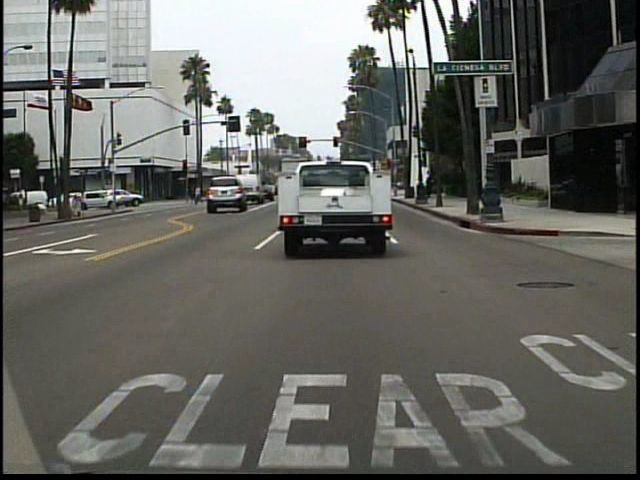person: (78, 187, 91, 213)
